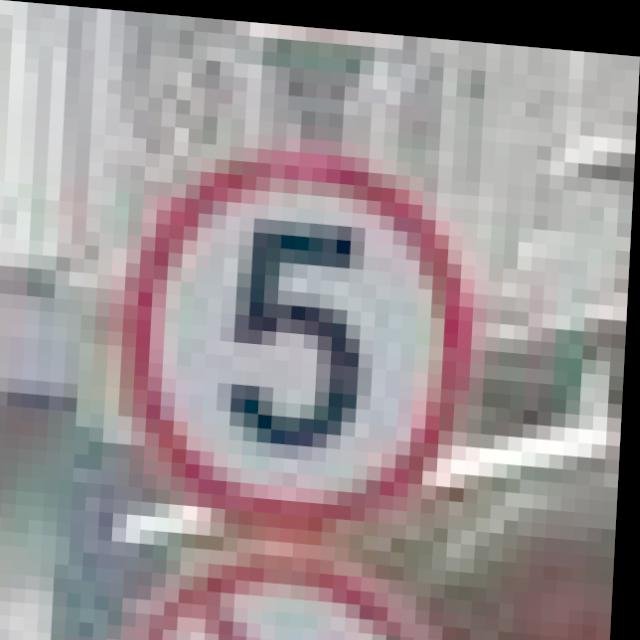SPEED_LIMIT_5: (121, 112, 485, 534)
